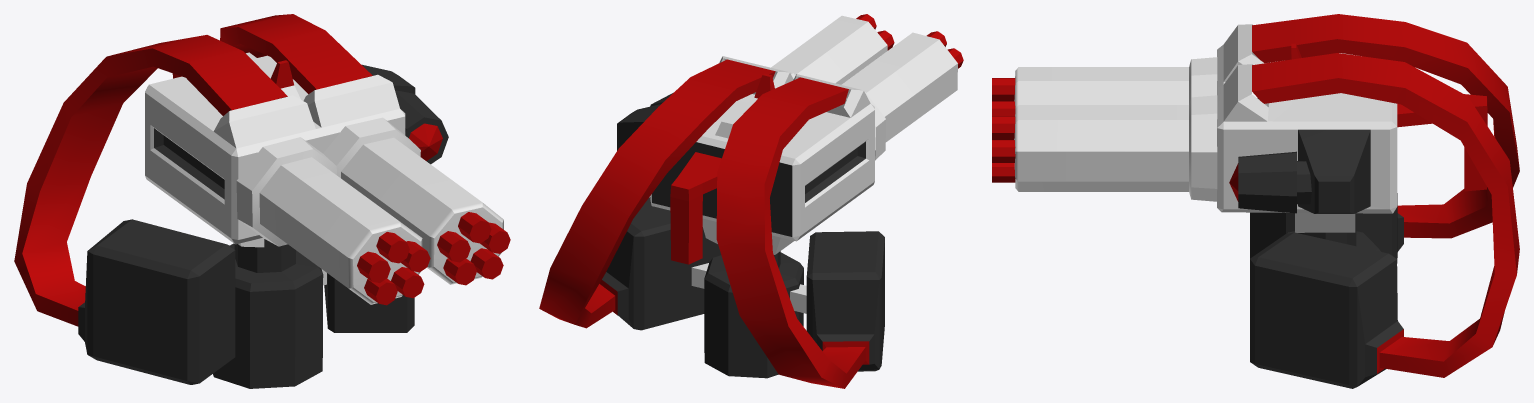
File: BasicTurret2.fbx
3 renders of one model, left to right at view 1: azimuth 30°, elevation 25°; view 2: azimuth 150°, elevation 25°; view 3: azimuth 270°, elevation 25°, orthographic. The views are drawn at different scales.
Parts seen in each view (by area): view 1: polySurface80, polySurface89, polySurface90, polySurface73, polySurface72, polySurface71, polySurface91, polySurface92, polySurface82, polySurface84, polySurface88, polySurface87 (+6 smaller); view 2: polySurface89, polySurface91, polySurface80, polySurface90, polySurface92, polySurface73, polySurface72, polySurface71, polySurface79, polySurface68; view 3: polySurface80, polySurface92, polySurface91, polySurface71, polySurface89, polySurface73, polySurface90, polySurface79, polySurface77, polySurface72, polySurface84, polySurface88 (+2 smaller).
Boxes of the visible parts, x1=… form: polySurface80: x1=145, y1=52, x2=448, y2=244; polySurface89: x1=14, y1=35, x2=287, y2=326; polySurface90: x1=78, y1=219, x2=235, y2=384; polySurface73: x1=236, y1=137, x2=422, y2=304; polySurface72: x1=213, y1=239, x2=323, y2=388; polySurface71: x1=323, y1=117, x2=503, y2=284; polySurface91: x1=220, y1=14, x2=372, y2=94; polySurface92: x1=324, y1=273, x2=414, y2=332; polySurface82: x1=437, y1=231, x2=470, y2=262; polySurface84: x1=458, y1=212, x2=491, y2=243; polySurface88: x1=376, y1=232, x2=409, y2=263; polySurface87: x1=357, y1=251, x2=390, y2=282; polySurface89: x1=716, y1=77, x2=869, y2=388; polySurface91: x1=539, y1=59, x2=775, y2=328; polySurface80: x1=617, y1=56, x2=874, y2=241; polySurface90: x1=806, y1=231, x2=884, y2=371; polySurface92: x1=602, y1=197, x2=721, y2=330; polySurface73: x1=834, y1=32, x2=957, y2=160; polySurface72: x1=704, y1=251, x2=803, y2=378; polySurface71: x1=771, y1=15, x2=887, y2=84; polySurface79: x1=670, y1=152, x2=721, y2=264; polySurface68: x1=790, y1=284, x2=806, y2=313; polySurface80: x1=1217, y1=24, x2=1397, y2=213; polySurface92: x1=1250, y1=232, x2=1403, y2=388; polySurface91: x1=1252, y1=53, x2=1519, y2=377; polySurface71: x1=1014, y1=95, x2=1217, y2=201; polySurface89: x1=1252, y1=14, x2=1519, y2=238; polySurface73: x1=1014, y1=57, x2=1217, y2=108; polySurface90: x1=1250, y1=193, x2=1403, y2=263; polySurface79: x1=1397, y1=94, x2=1487, y2=191; polySurface77: x1=1295, y1=213, x2=1355, y2=232; polySurface72: x1=1287, y1=213, x2=1380, y2=251; polySurface84: x1=992, y1=116, x2=1015, y2=139; polySurface88: x1=992, y1=78, x2=1015, y2=100.
Size of the model in its own units: 143 by 129 by 203.
